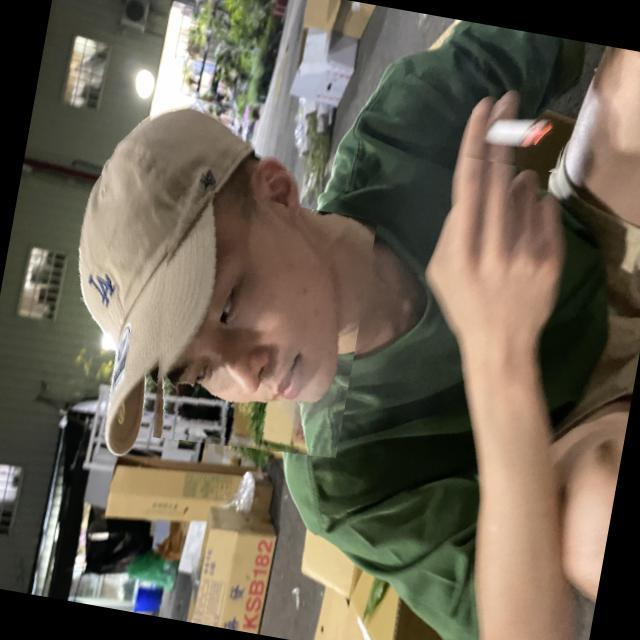cigarette: (463, 85, 572, 174)
